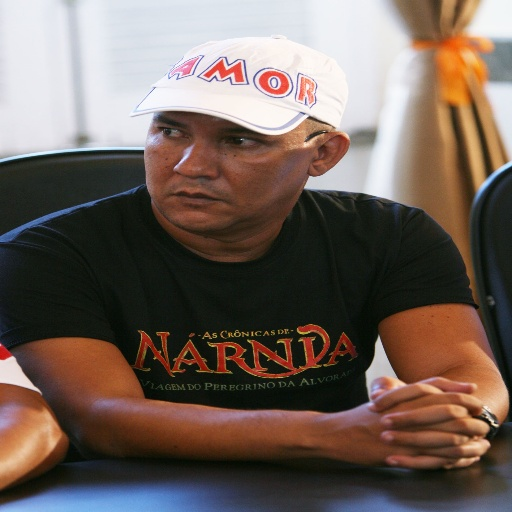hand: (25, 370, 480, 469), (367, 373, 492, 470)
